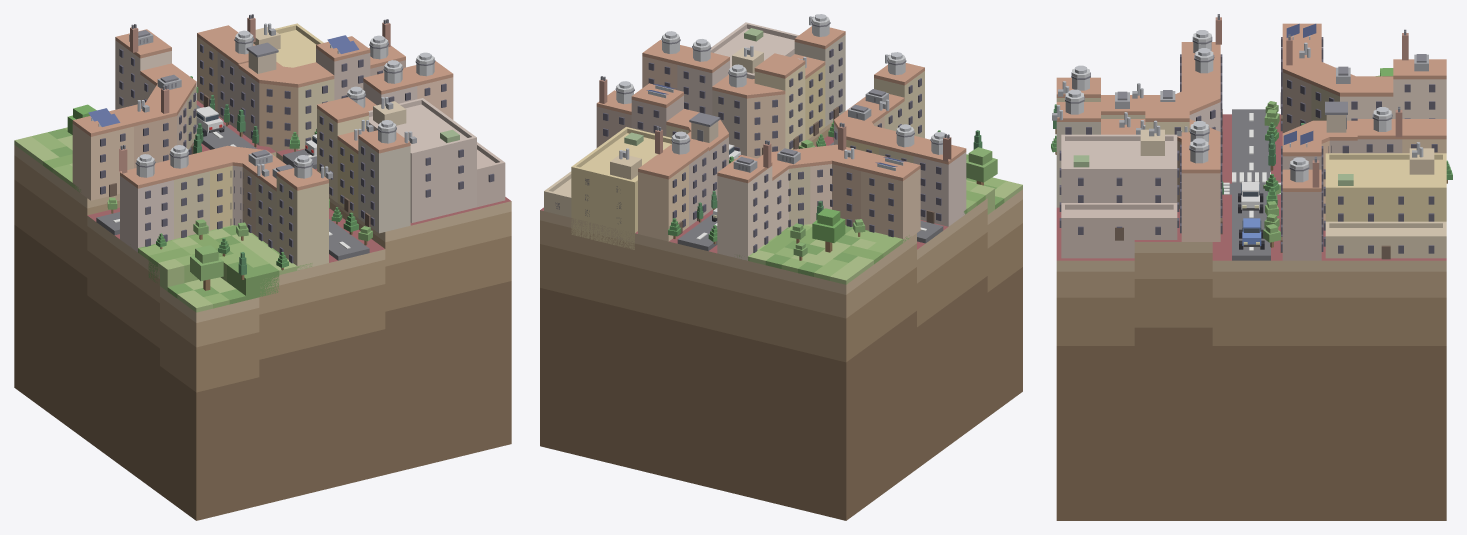
Rendered from block_19_base.glb.
The picture shows the model from 3 angles, left to right: view 1: azimuth 30°, elevation 25°; view 2: azimuth 150°, elevation 25°; view 3: azimuth 270°, elevation 25°; orthographic projection. The views are drawn at different scales.
Visible parts, largest first — view 1: Patch_MidRight_b19, Cerda_MidRight_b19, Insets_MidRight_b19, Green_MidRight_b19, CerdaRoofProps_MidRight_b19, Roads_MidRight_b19, Asset_Tree_Round.077, Asset_Car.040; view 2: Patch_MidRight_b19, Cerda_MidRight_b19, Insets_MidRight_b19, CerdaRoofProps_MidRight_b19, Green_MidRight_b19, Roads_MidRight_b19, Asset_Tree_Round.065, Asset_Tree_Round.077; view 3: Patch_MidRight_b19, Cerda_MidRight_b19, Insets_MidRight_b19, CerdaRoofProps_MidRight_b19, Roads_MidRight_b19, Asset_Car.041, Asset_Car.042.
Part boxes in pixels (bbox=[...]): Patch_MidRight_b19: bbox=[14, 100, 511, 520]; Cerda_MidRight_b19: bbox=[72, 25, 453, 270]; Insets_MidRight_b19: bbox=[253, 23, 505, 223]; Green_MidRight_b19: bbox=[14, 127, 312, 312]; CerdaRoofProps_MidRight_b19: bbox=[88, 14, 435, 178]; Roads_MidRight_b19: bbox=[96, 105, 369, 260]; Asset_Tree_Round.077: bbox=[190, 245, 223, 290]; Asset_Car.040: bbox=[196, 106, 224, 136]; Patch_MidRight_b19: bbox=[540, 121, 1022, 520]; Cerda_MidRight_b19: bbox=[596, 26, 966, 260]; Insets_MidRight_b19: bbox=[544, 22, 798, 249]; CerdaRoofProps_MidRight_b19: bbox=[599, 14, 951, 172]; Green_MidRight_b19: bbox=[737, 154, 1022, 284]; Roads_MidRight_b19: bbox=[677, 142, 943, 251]; Asset_Tree_Round.065: bbox=[812, 208, 845, 252]; Asset_Tree_Round.077: bbox=[966, 147, 997, 185]; Patch_MidRight_b19: bbox=[1056, 114, 1446, 520]; Cerda_MidRight_b19: bbox=[1056, 23, 1446, 260]; Insets_MidRight_b19: bbox=[1059, 129, 1446, 259]; CerdaRoofProps_MidRight_b19: bbox=[1052, 14, 1428, 187]; Roads_MidRight_b19: bbox=[1223, 109, 1270, 260]; Asset_Car.041: bbox=[1238, 182, 1263, 213]; Asset_Car.042: bbox=[1239, 218, 1264, 249].
Bounding box in the file's own units: 9.51 × 10.16 × 9.78.
